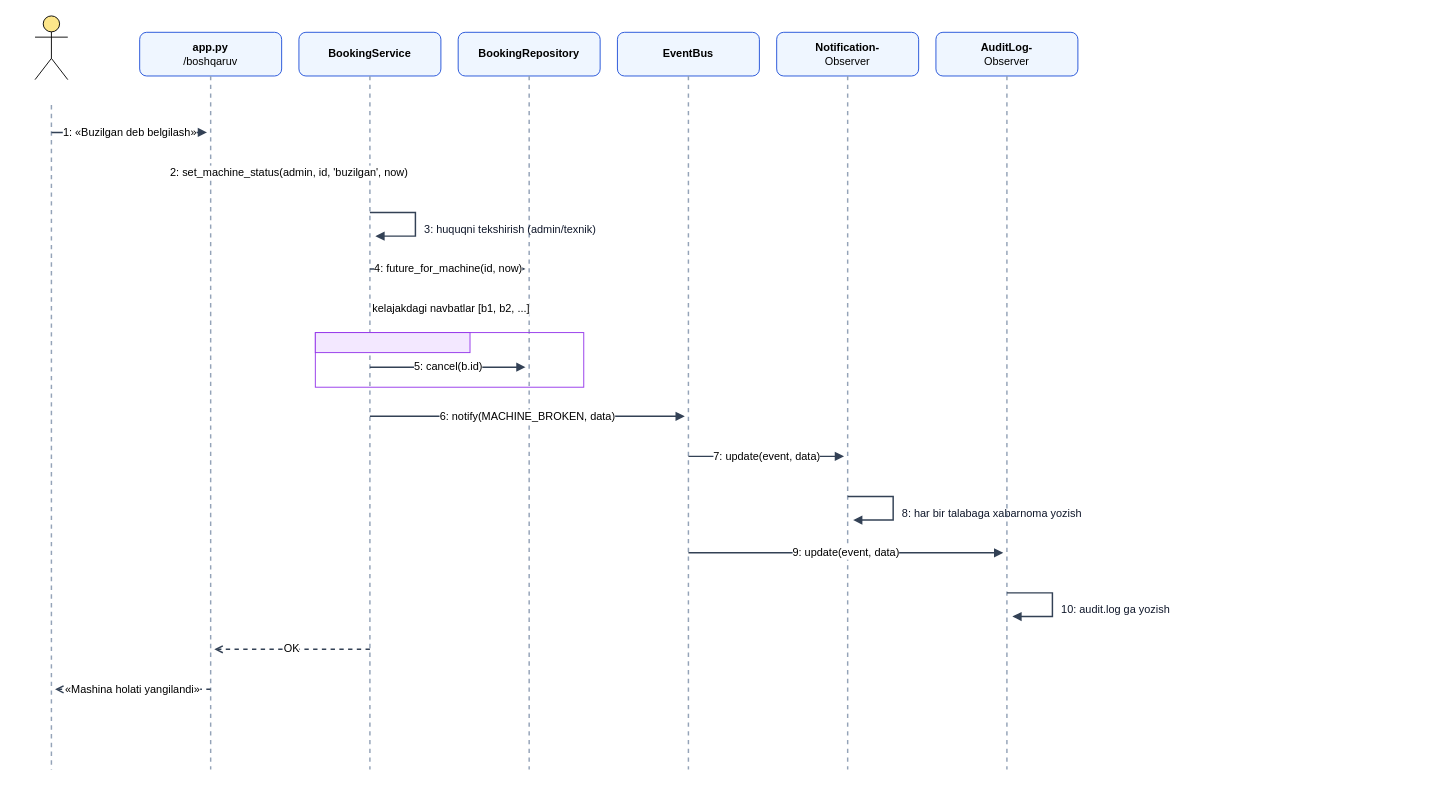
This 1440x787 diagram has some shape labels left out. Here are the shapes that lost their labels. From the top down, the box of each, then its label:
(34, 15, 68, 80): Administrator
(314, 332, 470, 353): loop [har bir navbat]
